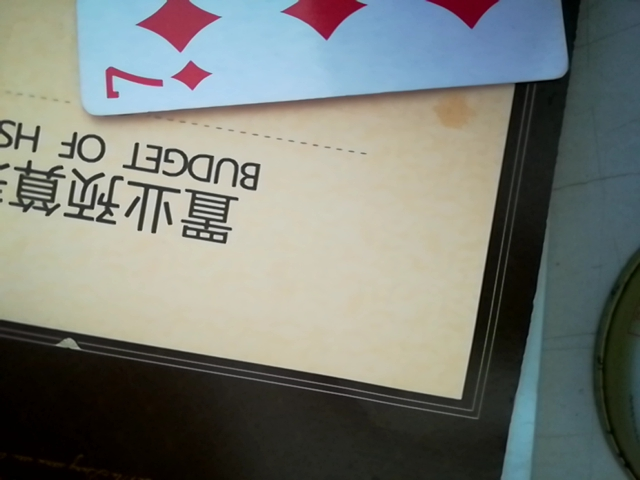fk 7: (62, 0, 570, 116)
